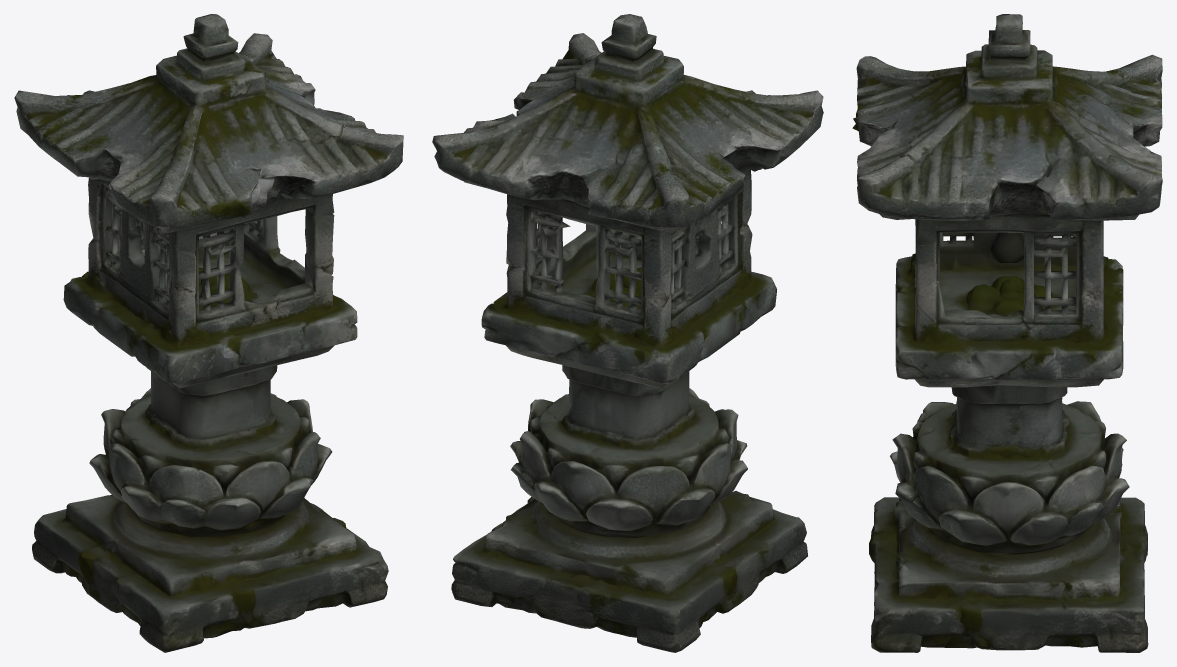
3 views of the same model, side by side, from view 1: azimuth 30°, elevation 25°; view 2: azimuth 150°, elevation 25°; view 3: azimuth 270°, elevation 25° (orthographic). The views are drawn at different scales.
Visible parts, largest first — view 1: tripo_node_fb0f5f21-ff04-4aac-81aa-010db410f1a2; view 2: tripo_node_fb0f5f21-ff04-4aac-81aa-010db410f1a2; view 3: tripo_node_fb0f5f21-ff04-4aac-81aa-010db410f1a2.
Boxes of the visible parts, x1=… form: tripo_node_fb0f5f21-ff04-4aac-81aa-010db410f1a2: x1=14, y1=14, x2=403, y2=652; tripo_node_fb0f5f21-ff04-4aac-81aa-010db410f1a2: x1=432, y1=14, x2=823, y2=652; tripo_node_fb0f5f21-ff04-4aac-81aa-010db410f1a2: x1=852, y1=14, x2=1162, y2=652.
Size of the model in its own units: 0.4701 by 1 by 0.4832.
Materials: 1 (1 with a texture image).
